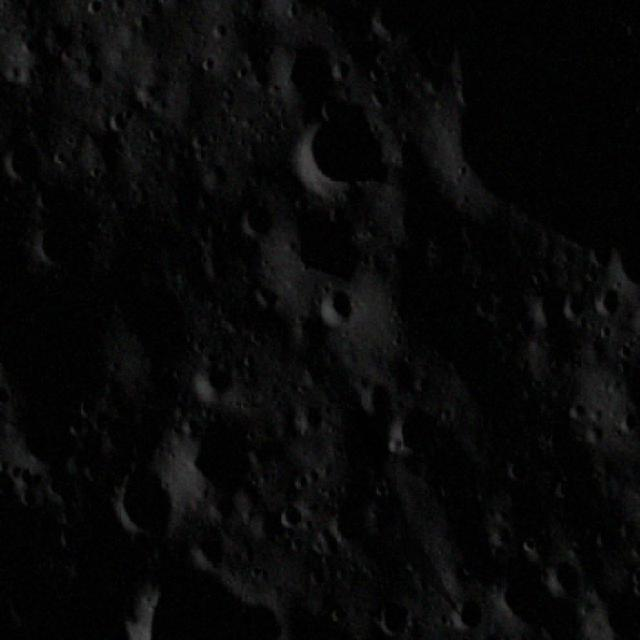crater: (296, 100, 406, 191), (284, 206, 378, 282), (106, 275, 191, 356), (186, 418, 266, 497), (276, 30, 356, 108), (109, 454, 180, 537), (497, 554, 566, 631), (16, 399, 79, 479), (28, 208, 86, 272), (458, 210, 514, 273), (387, 402, 447, 455), (338, 365, 392, 413), (192, 353, 240, 404), (526, 272, 566, 331), (313, 287, 364, 330), (416, 33, 461, 78), (322, 502, 370, 544), (3, 136, 43, 184), (361, 598, 417, 631), (547, 550, 585, 596), (38, 12, 76, 58), (239, 194, 278, 235), (449, 588, 485, 632), (586, 276, 620, 318), (372, 2, 412, 35), (269, 499, 305, 533), (193, 536, 227, 572), (103, 103, 140, 131), (505, 454, 530, 483)
